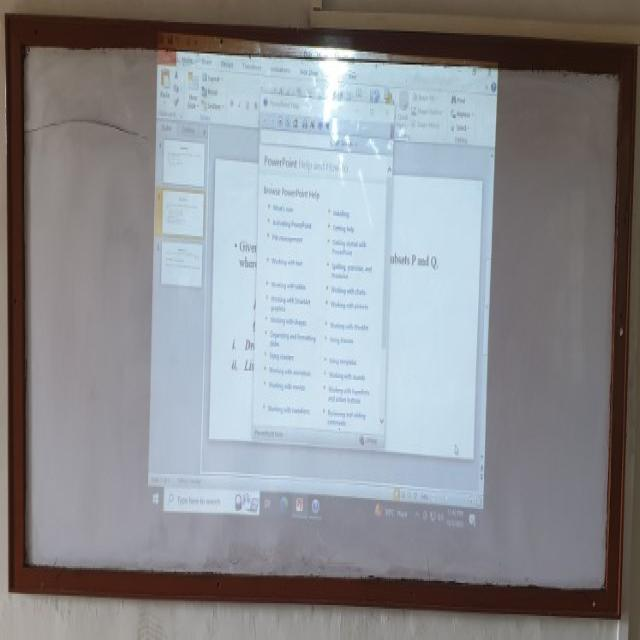Slide: (147, 29, 498, 541)
White-board: (16, 27, 629, 606)
